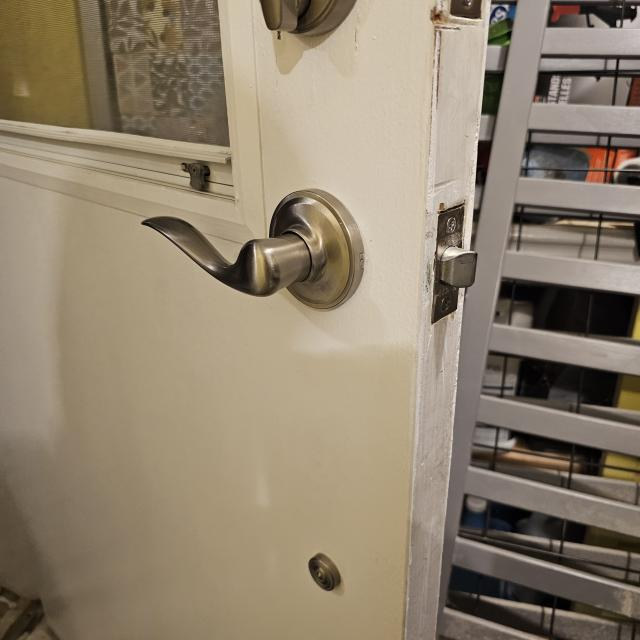door-handle: (142, 189, 364, 310)
